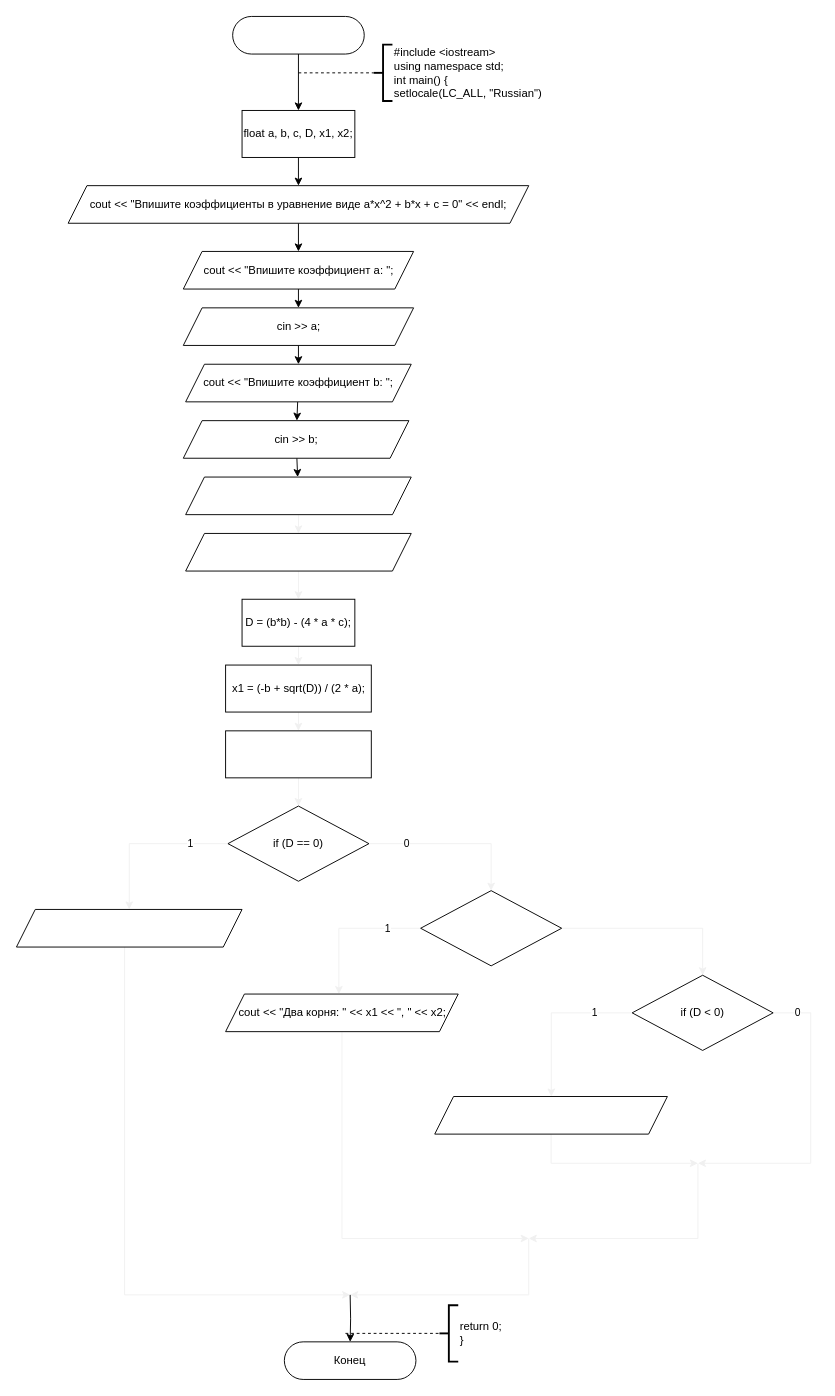
This 835x1396 diagram has some shape labels left out. Each missing label, with the box of its shape:
cin >> c;: (185, 533, 411, 571)
cout << "Впишите коэффициент c: ";: (185, 476, 411, 515)
cout << "Корней нет";: (434, 1096, 667, 1134)
cout << "Только один корень: " << x1;: (16, 909, 242, 947)
if (D > 0): (420, 890, 562, 966)
x2 = (-b - sqrt(D)) / (2 * a);: (225, 730, 371, 778)
Запуск: (232, 16, 364, 54)
